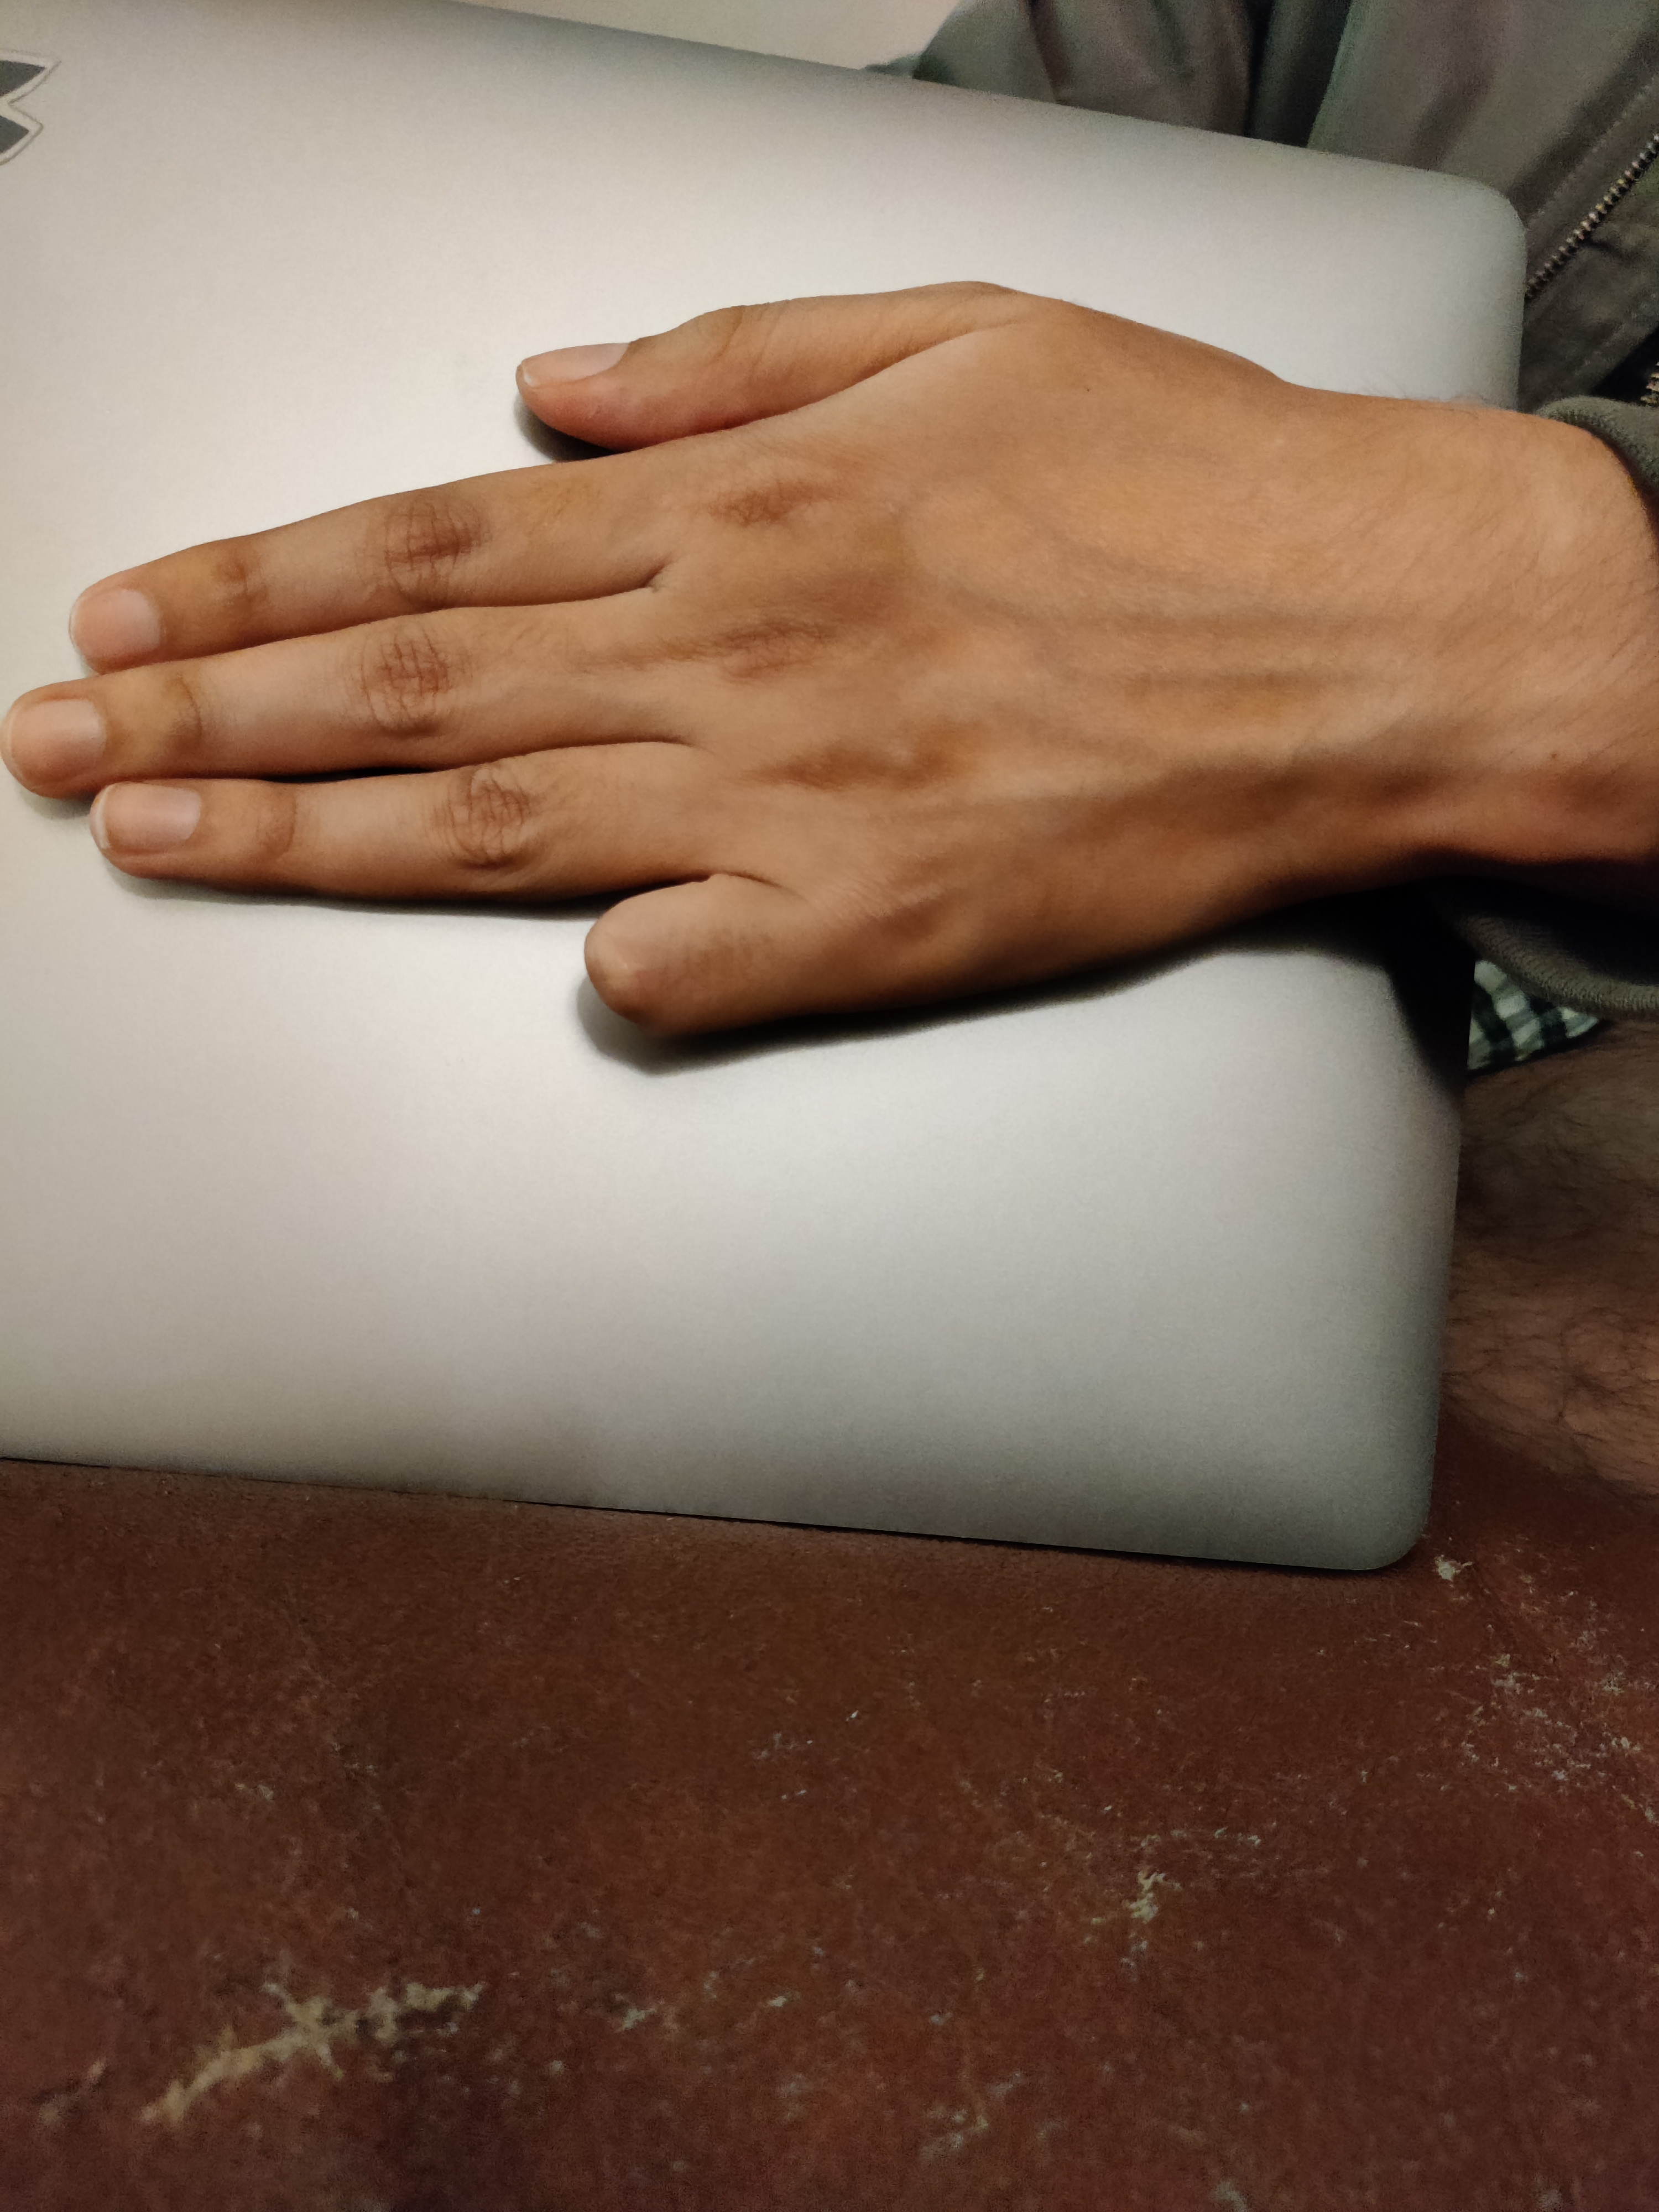right: (12, 218, 1607, 1249)
